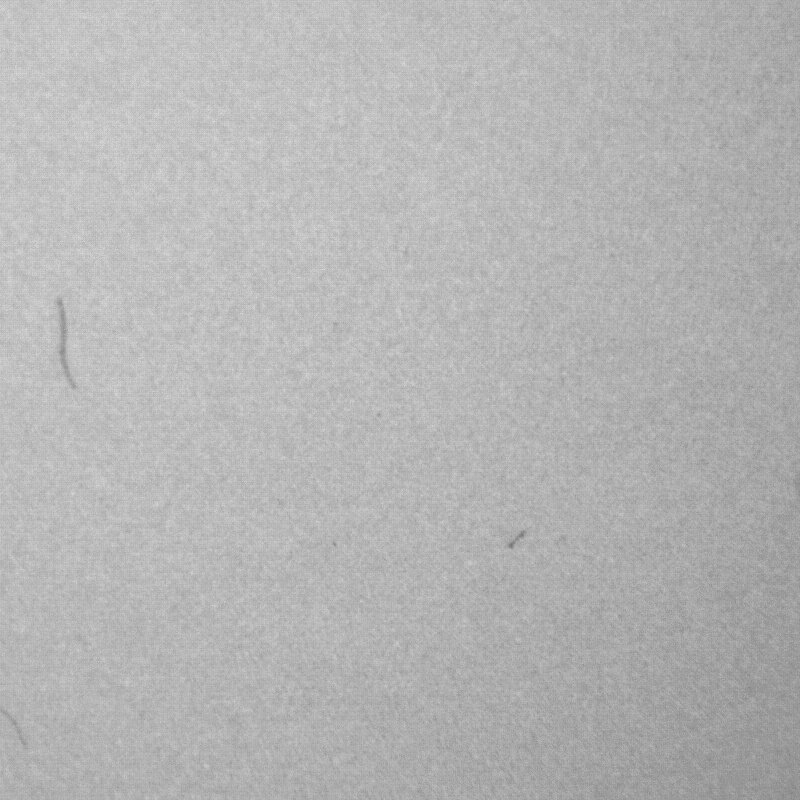defect: (51, 296, 80, 393), (1, 705, 31, 745), (500, 528, 529, 555)
